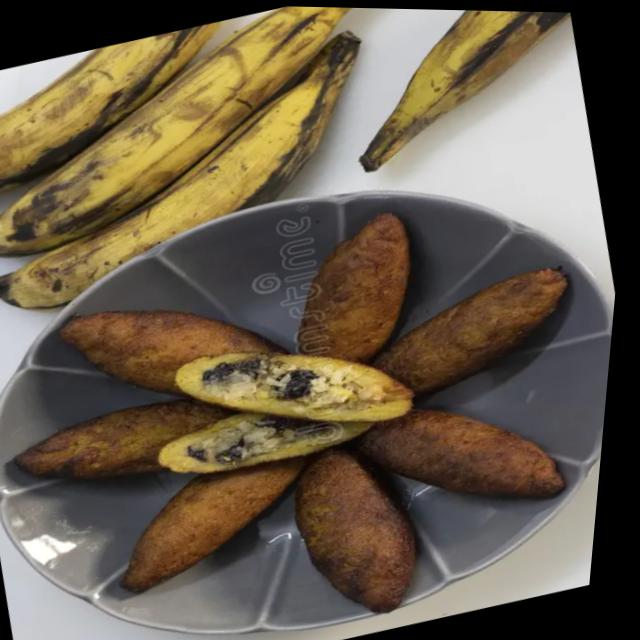BANANA: (0, 6, 597, 316)
